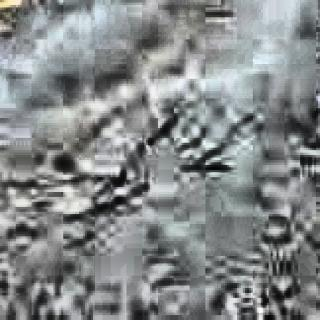alligator-crack: (0, 94, 274, 268)
